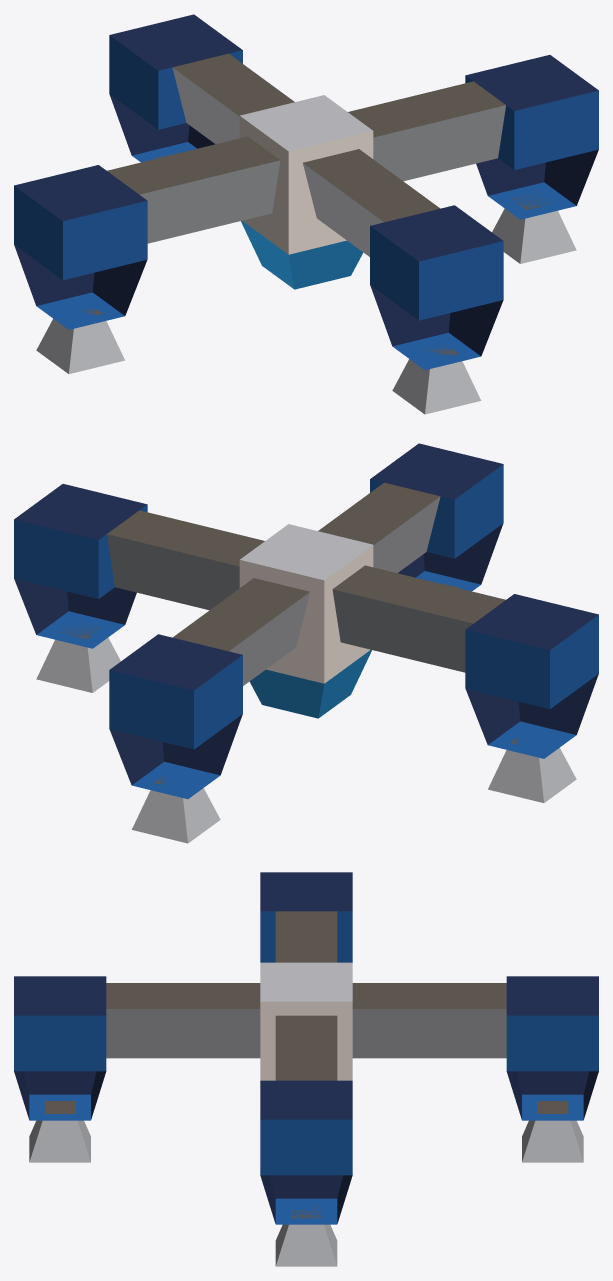
The model's file is tom.obj.
The picture shows the model from 3 angles, top to bottom: view 1: azimuth 30°, elevation 25°; view 2: azimuth 150°, elevation 25°; view 3: azimuth 270°, elevation 25°; orthographic projection. The views are drawn at different scales.
Parts seen in each view (by area): view 1: tom; view 2: tom; view 3: tom.
Boxes of the visible parts, bbox=[...] form: tom: bbox=[14, 14, 598, 414]; tom: bbox=[14, 443, 598, 843]; tom: bbox=[14, 872, 598, 1266].
Bounding box in the file's own units: 9.5 × 3 × 9.5.
